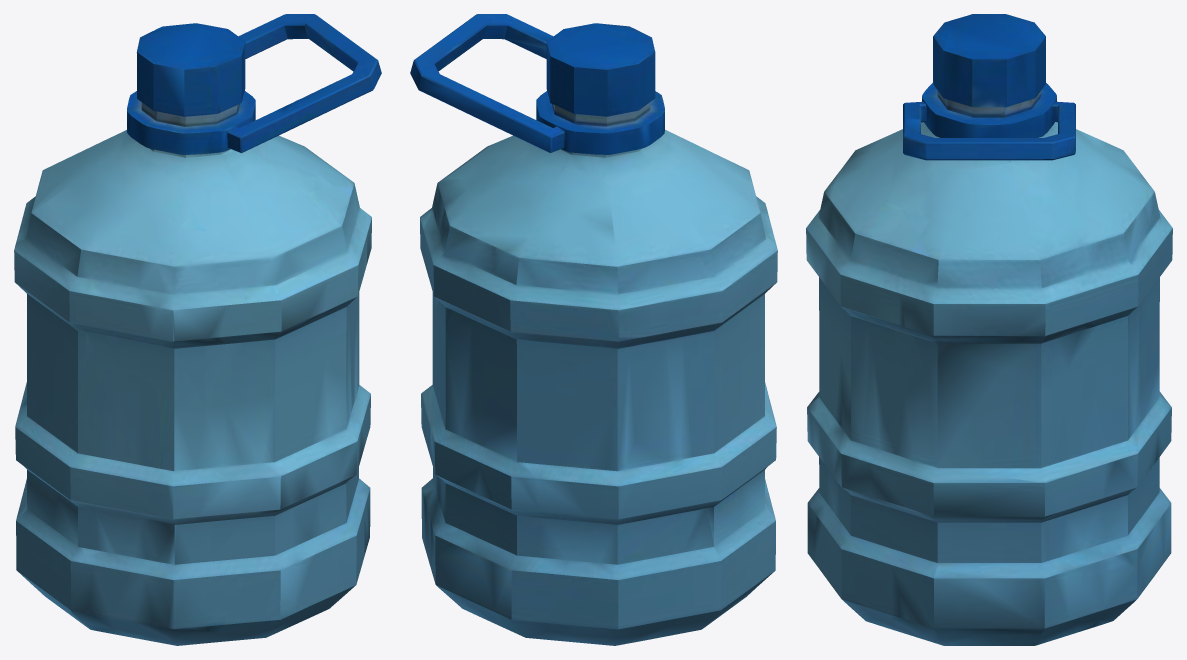
File: water5.glb
3 renders of one model, left to right at view 1: azimuth 30°, elevation 25°; view 2: azimuth 150°, elevation 25°; view 3: azimuth 270°, elevation 25°, orthographic.
Visible parts, largest first — view 1: node_0; view 2: node_0; view 3: node_0.
Part boxes in pixels (box(x1,y1,x2,y2)): node_0: box(14, 14, 381, 645); node_0: box(410, 14, 777, 645); node_0: box(806, 14, 1172, 645).
Size of the model in its own units: 0.5955 by 1 by 0.6022.
Materials: 1 (1 with a texture image).
